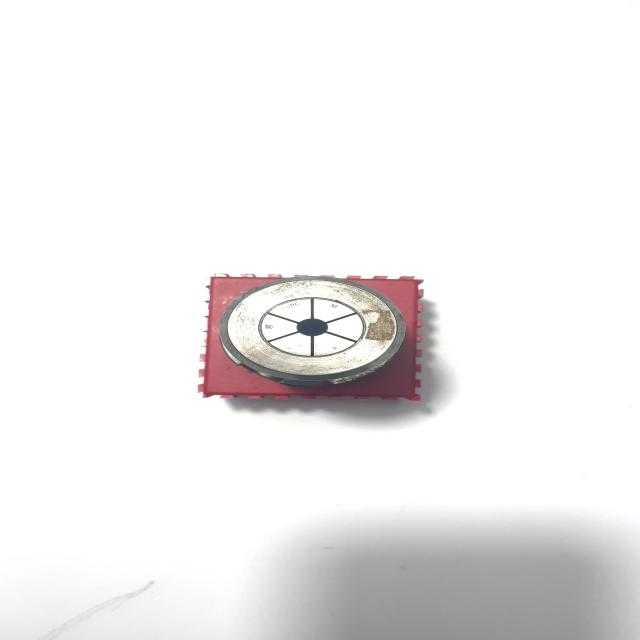Filled_Slot: (218, 276, 405, 387), (218, 276, 405, 386)
